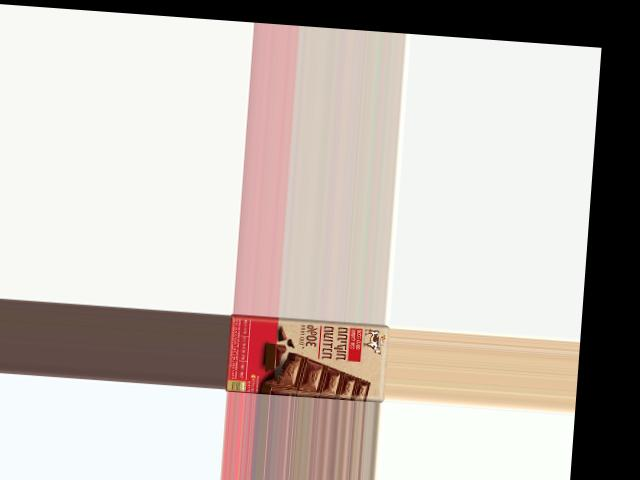chocolate: (226, 313, 389, 402)
